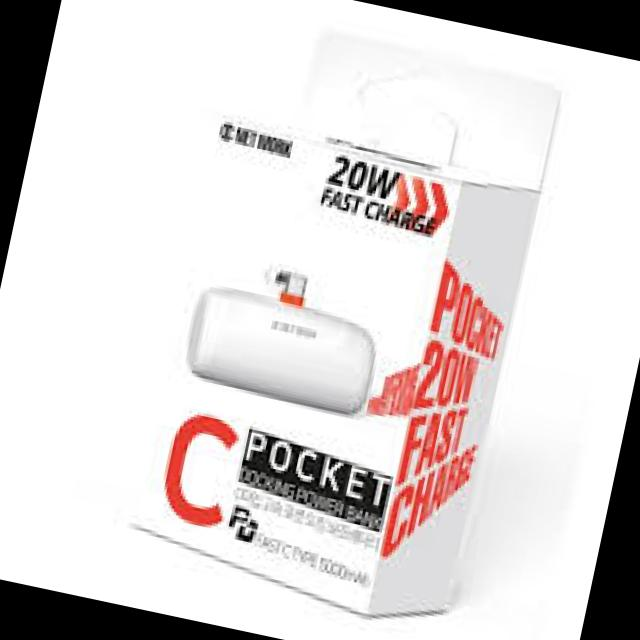portable-charger: (178, 245, 392, 424)
